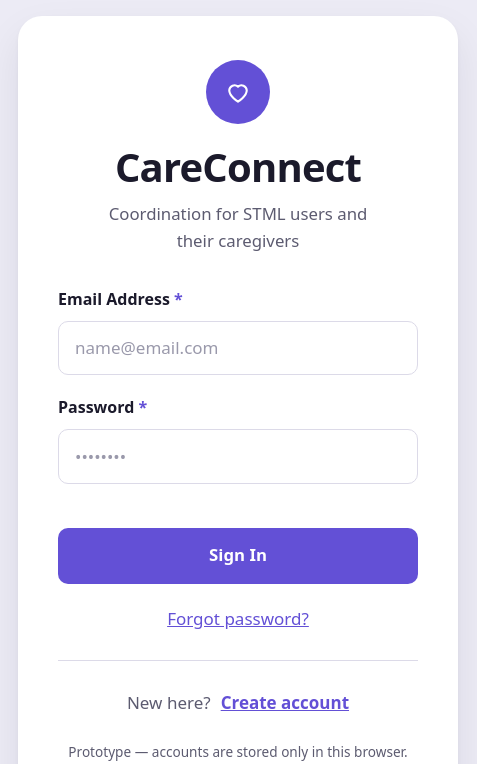
authentication › rejects an email that was never registered
Type "nobody@example.com" into the field labelled "Email Address *" at (238, 348), box [58,320,418,375]
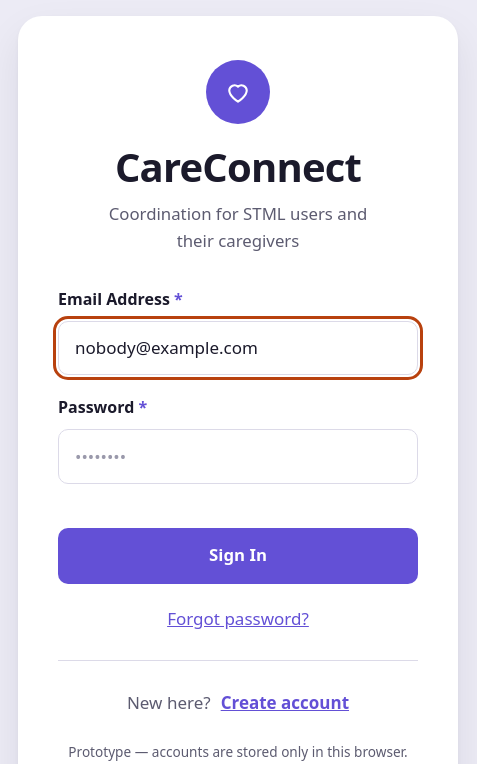
Type "correct-horse" into the password field labelled "Password *" at (238, 456), box [58,429,418,484]
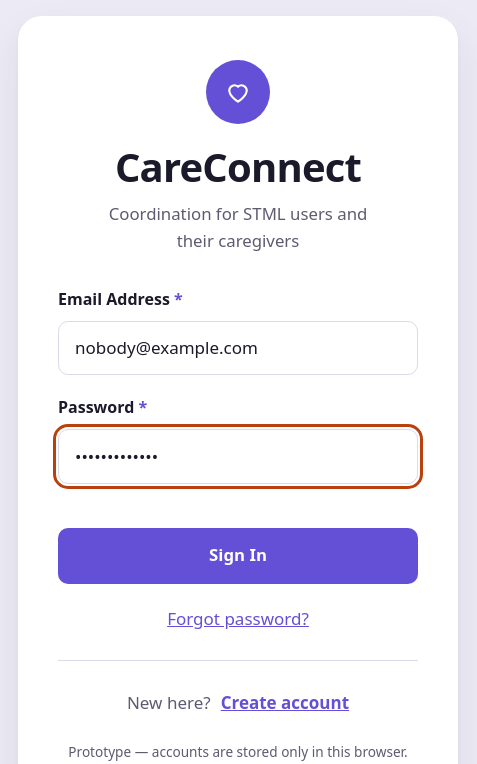
Click the button "Sign In" at (238, 556), box [58,528,418,584]
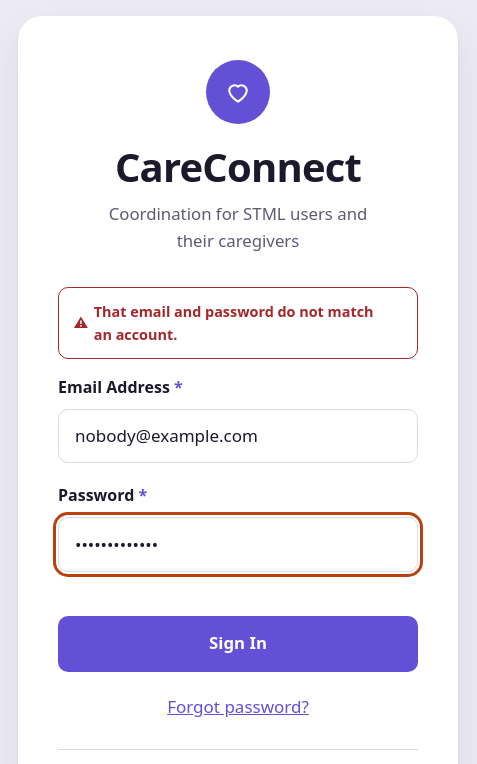
Expected: the message shows "do not match an account", [94,302,374,344]
